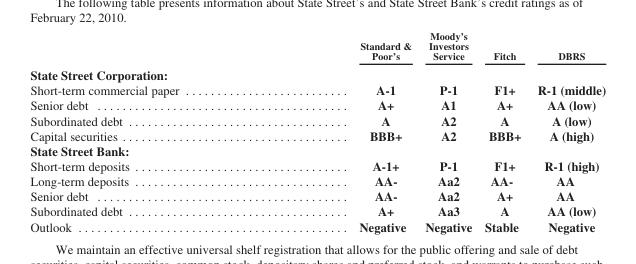table: (29, 29, 605, 233)
table column: (29, 29, 268, 233), (268, 29, 417, 233), (528, 29, 605, 233), (417, 29, 477, 233), (477, 29, 528, 233)
table column header: (29, 29, 605, 64)
table projected row header: (29, 64, 605, 82), (29, 142, 605, 157)
table row: (29, 29, 605, 64), (29, 64, 605, 82), (29, 157, 605, 173), (29, 82, 605, 97), (29, 97, 605, 112), (29, 112, 605, 127), (29, 127, 605, 142), (29, 142, 605, 157), (29, 173, 605, 188), (29, 188, 605, 203), (29, 203, 605, 218), (29, 218, 605, 233)
